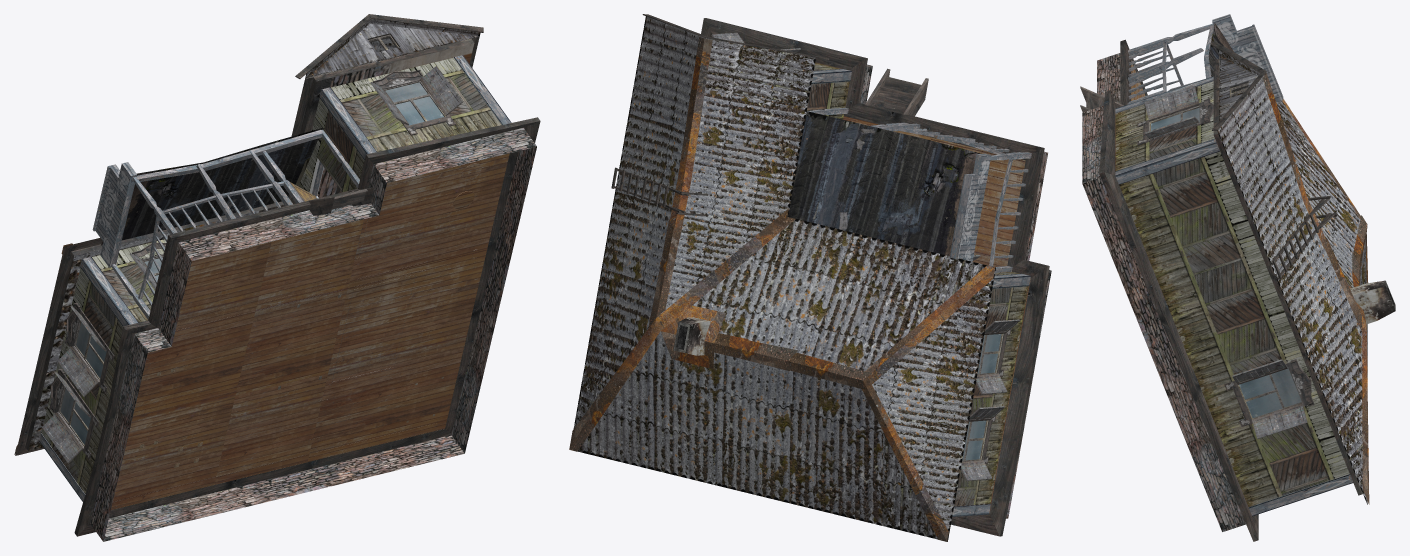
The model's file is old-house_rotate.obj.
The picture shows the model from 3 angles, left to right: view 1: azimuth 30°, elevation 25°; view 2: azimuth 150°, elevation 25°; view 3: azimuth 270°, elevation 25°; orthographic projection. The views are drawn at different scales.
Parts seen in each view (by area): view 1: House.001_House; view 2: House.001_House; view 3: House.001_House.
Boxes of the visible parts, x1,y1,x2,y2 form: House.001_House: (14,14,540,541); House.001_House: (569,14,1051,541); House.001_House: (1080,14,1395,541).
Size of the model in its own units: 8.33 by 9.05 by 6.01.
3 materials, 3 textured.
